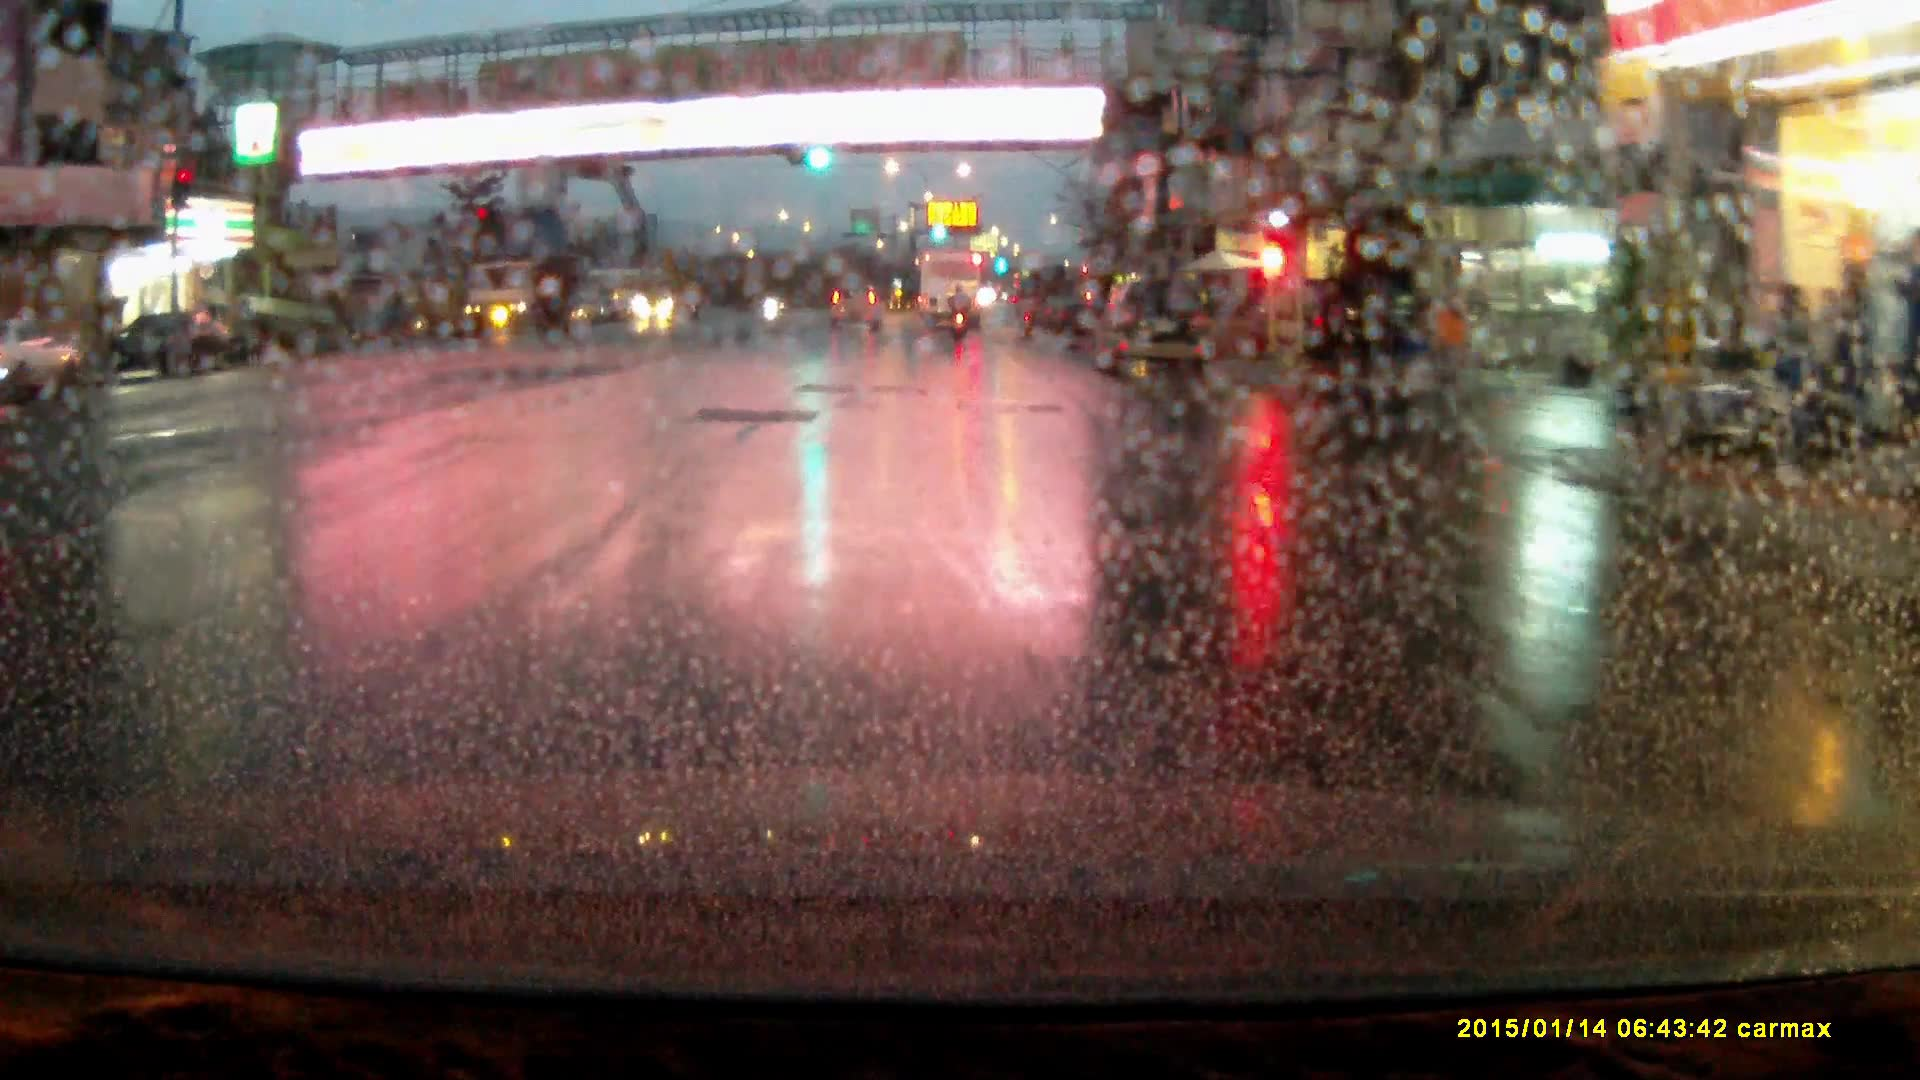pedestrian: (1420, 279, 1474, 413)
rider: (949, 283, 972, 340)
vehicle: (1092, 281, 1211, 388), (91, 317, 235, 391), (456, 263, 572, 341), (1308, 283, 1413, 367), (1, 327, 100, 406), (921, 256, 983, 335), (634, 279, 701, 329), (830, 290, 885, 338)
